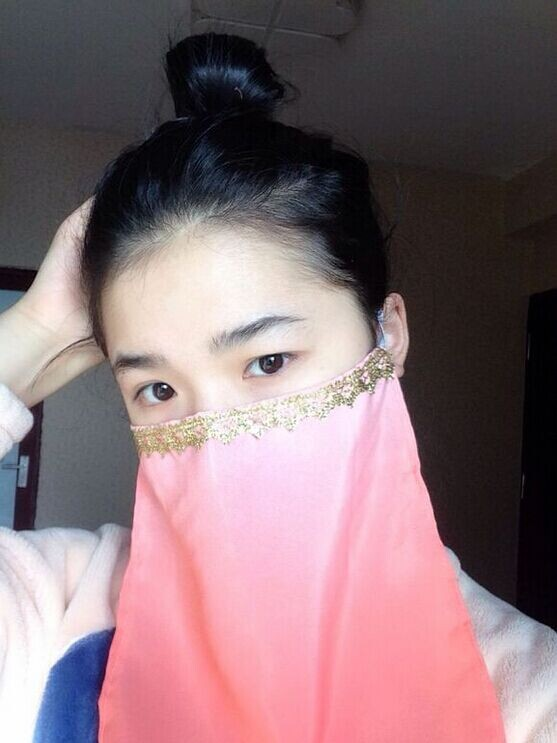face_mask: (114, 216, 378, 568)
